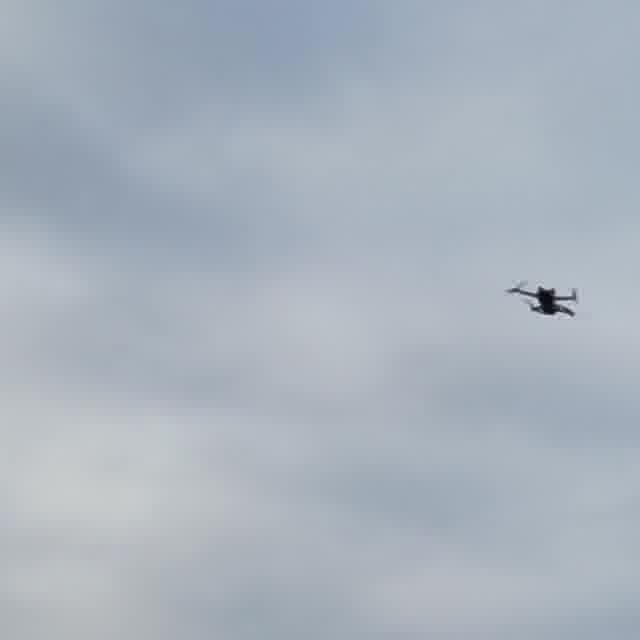Drohne: (507, 283, 576, 314)
